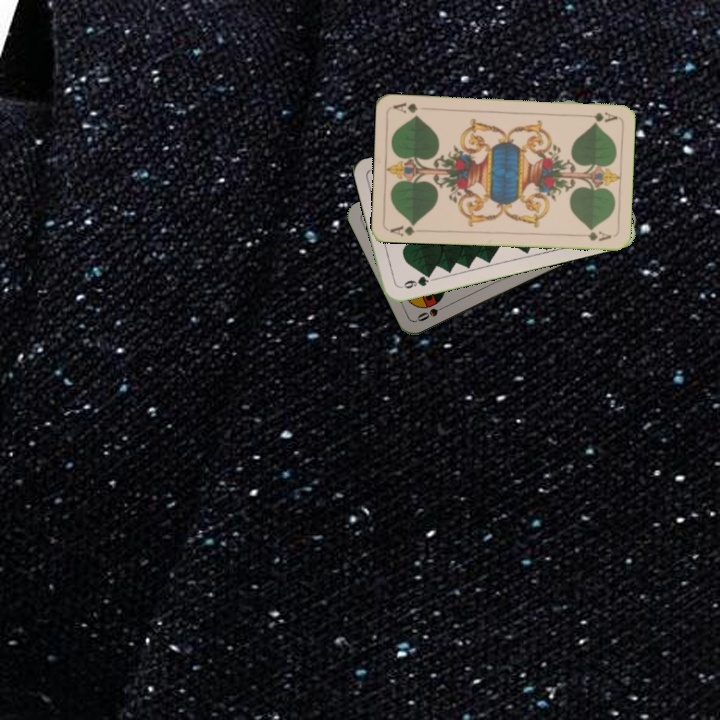G9: (396, 270, 434, 291)
GA: (579, 108, 619, 125), (386, 219, 419, 238)
SO: (413, 301, 451, 324)
